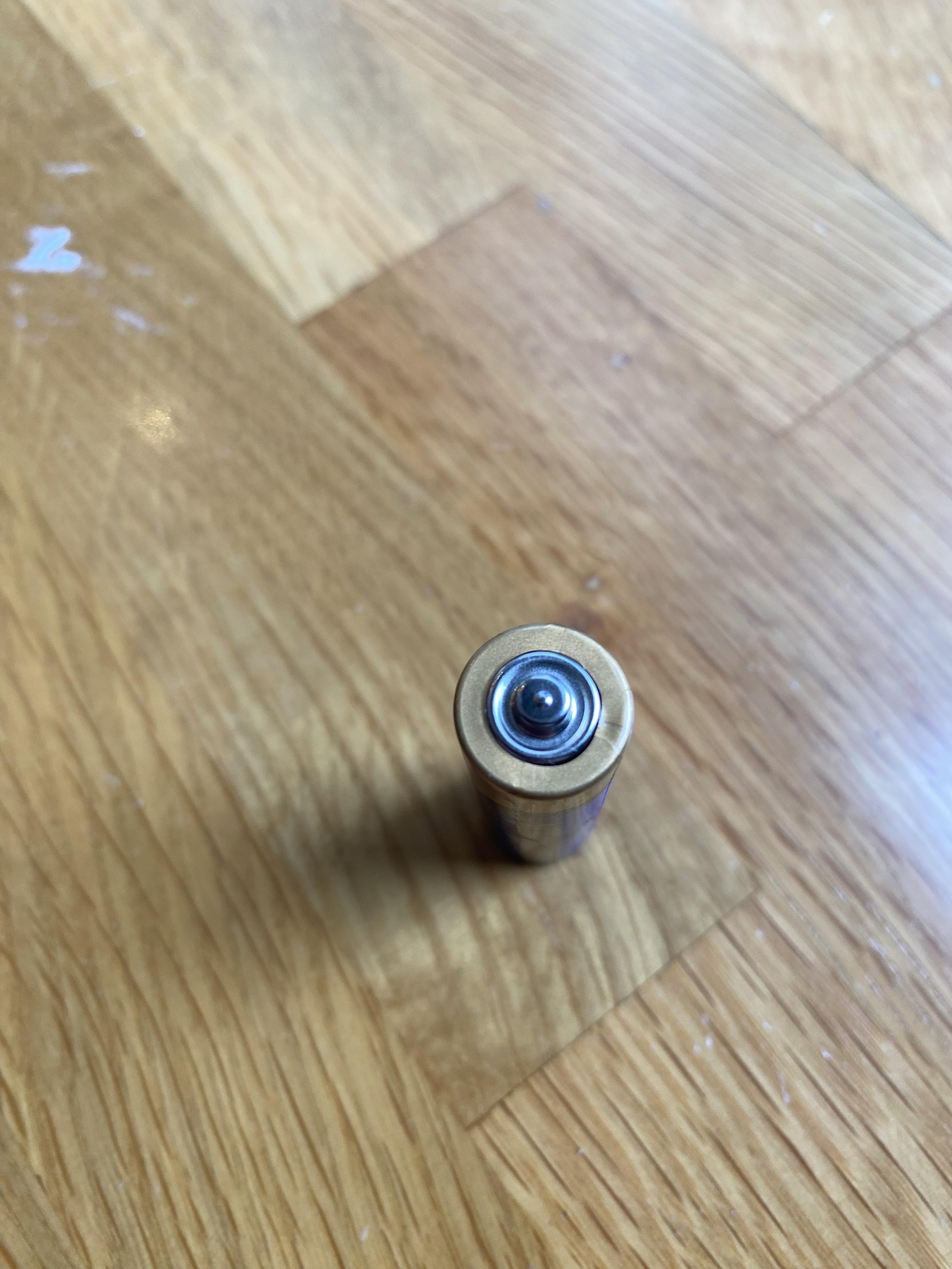AA: (451, 621, 635, 866)
